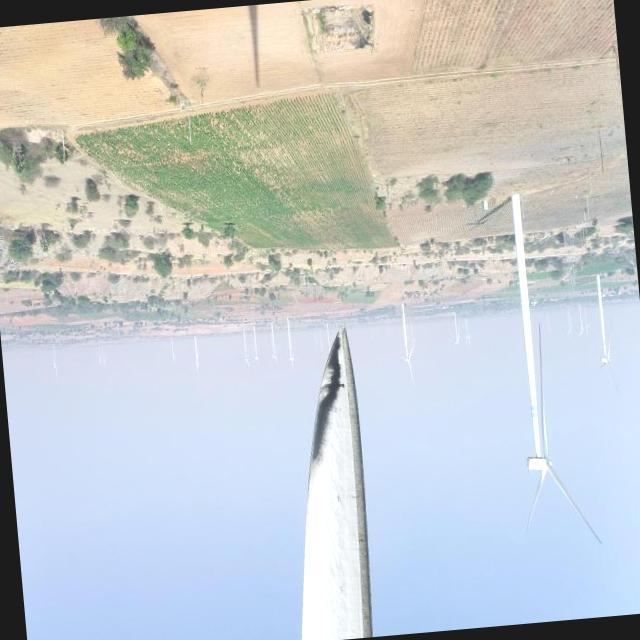Dirt: (300, 329, 370, 639)
Oil LEAKAGE: (305, 339, 344, 455)
